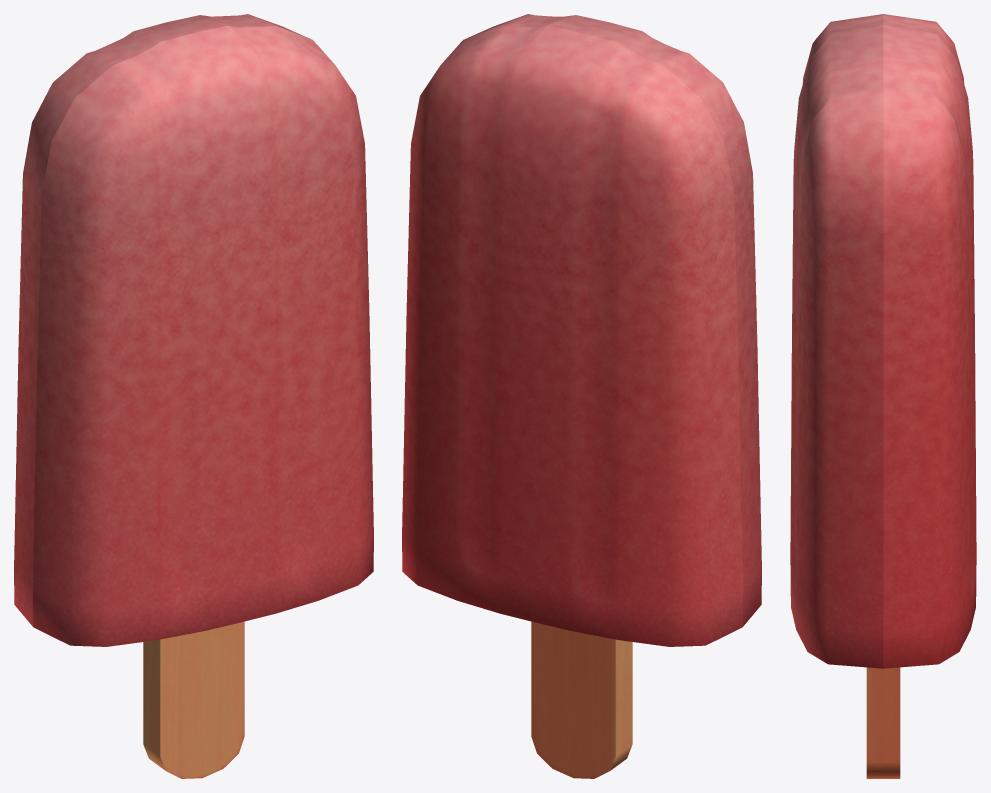
Rendered from Popsicle_1.fbx.
The picture shows the model from 3 angles, left to right: view 1: azimuth 30°, elevation 25°; view 2: azimuth 150°, elevation 25°; view 3: azimuth 270°, elevation 25°; orthographic projection.
Parts seen in each view (by area): view 1: Popsicle_1; view 2: Popsicle_1; view 3: Popsicle_1.
Part boxes in pixels (x1=…): Popsicle_1: x1=14, y1=14, x2=373, y2=778; Popsicle_1: x1=402, y1=14, x2=761, y2=778; Popsicle_1: x1=790, y1=14, x2=976, y2=778.
Bounding box in the file's own units: 31.05 × 68.03 × 15.68.
Materials: 1 (1 with a texture image).
